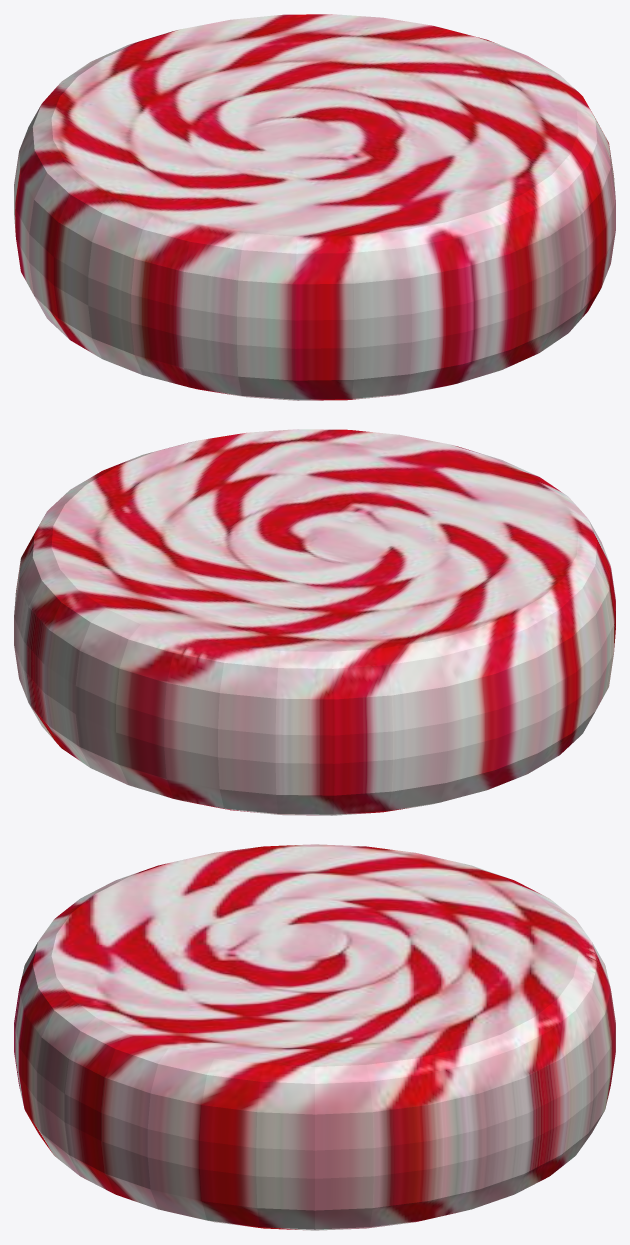
Rendered from Zaeltli-Spirale-CW.001.gltf.
The picture shows the model from 3 angles, top to bottom: view 1: azimuth 30°, elevation 25°; view 2: azimuth 150°, elevation 25°; view 3: azimuth 270°, elevation 25°; orthographic projection.
Visible parts, largest first — view 1: Zaeltli-Spirale-CW.001; view 2: Zaeltli-Spirale-CW.001; view 3: Zaeltli-Spirale-CW.001.
Part boxes in pixels (x1=…): Zaeltli-Spirale-CW.001: x1=14, y1=14, x2=615, y2=400; Zaeltli-Spirale-CW.001: x1=14, y1=429, x2=615, y2=815; Zaeltli-Spirale-CW.001: x1=14, y1=844, x2=615, y2=1230.
Bounding box in the file's own units: 1 × 0.3 × 1.
Materials: 1 (1 with a texture image).
